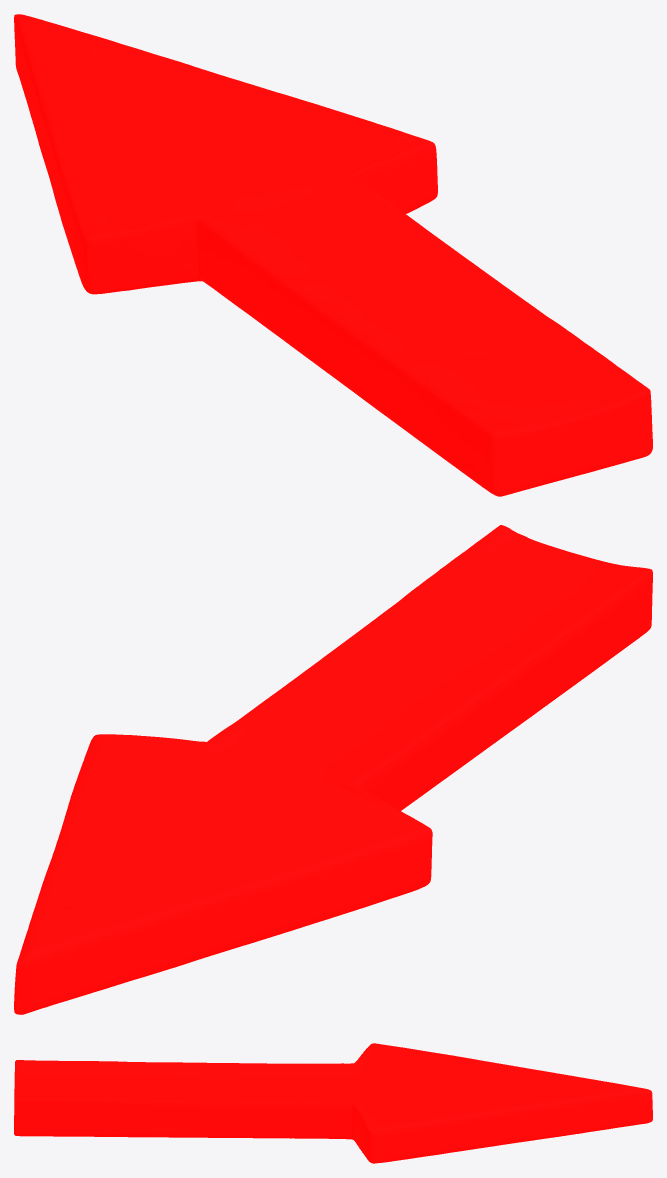
File: modelred.glb
3 renders of one model, top to bottom at view 1: azimuth 30°, elevation 25°; view 2: azimuth 150°, elevation 25°; view 3: azimuth 270°, elevation 25°, orthographic. The views are drawn at different scales.
Parts seen in each view (by area): view 1: Mesh_0.001; view 2: Mesh_0.001; view 3: Mesh_0.001.
Boxes of the visible parts, box(x1,y1,x2,y2) form: Mesh_0.001: box(14, 14, 652, 496); Mesh_0.001: box(14, 525, 652, 1014); Mesh_0.001: box(14, 1043, 652, 1163).
Bounding box in the file's own units: 0.717 × 0.1574 × 2.
